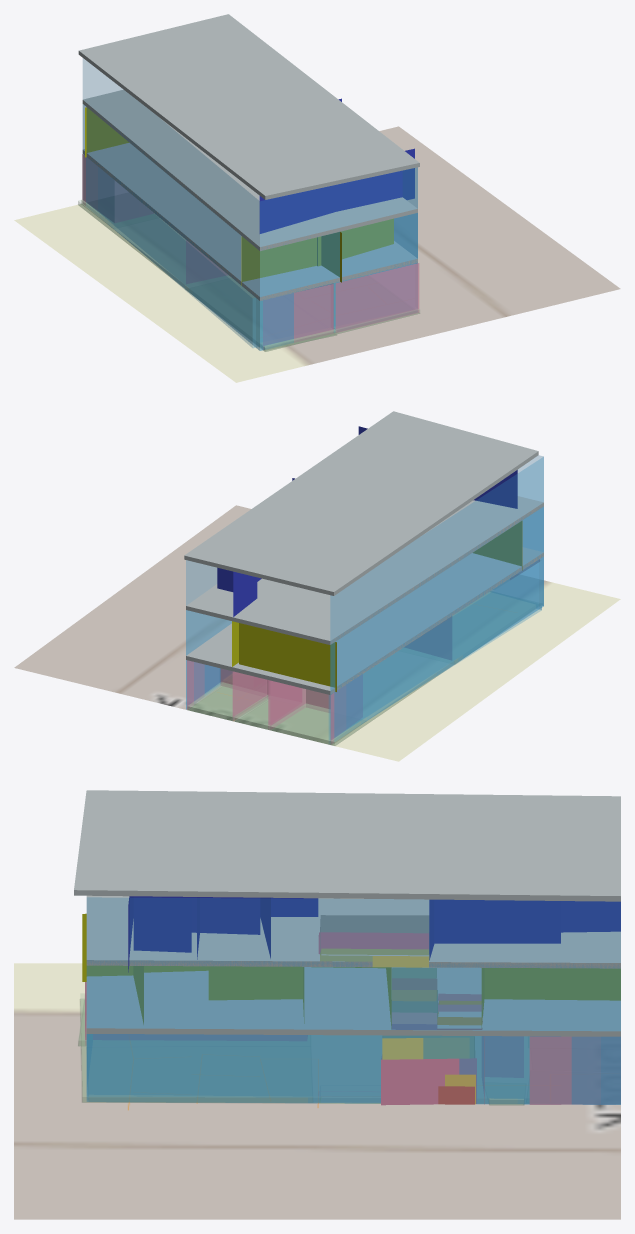
The model's file is mymodel.gltf.
3 views of the same model, one above another, from view 1: azimuth 30°, elevation 25°; view 2: azimuth 150°, elevation 25°; view 3: azimuth 270°, elevation 25° (orthographic). The views are drawn at different scales.
Parts seen in each view (by area): view 1: boundary, Outer_wall, Flat Plane, Inner_walls, Innerwall_floor2, Innerwalls_floor3, Building; view 2: boundary, Flat Plane, Outer_wall, Inner_walls, Innerwall_floor2, Building, Innerwalls_floor3; view 3: Flat Plane, Outer_wall, boundary, Innerwalls_floor3, Innerwall_floor2, Inner_walls, staircase3, Building, staircase4, stair3, threestair2, threestair33 (+4 smaller).
Part boxes in pixels (x1,y1,x2,y2): boundary: (78,14,419,300); Outer_wall: (82,58,417,350); Flat Plane: (14,126,620,382); Inner_walls: (82,154,419,349); Innerwall_floor2: (85,107,393,285); Innerwalls_floor3: (259,98,414,233); Building: (78,200,419,351); boundary: (184,411,543,694); Flat Plane: (14,505,620,761); Outer_wall: (186,455,543,741); Inner_walls: (187,559,539,743); Innerwall_floor2: (232,521,522,691); Building: (187,592,490,745); Innerwalls_floor3: (217,426,517,616); Flat Plane: (14,963,620,1219); Outer_wall: (86,897,620,1104); boundary: (74,790,620,1036); Innerwalls_floor3: (128,896,620,972); Innerwall_floor2: (82,913,620,1028); Inner_walls: (85,982,620,1104); staircase3: (381,1058,476,1105); Building: (78,993,524,1104); staircase4: (382,1036,474,1059); stair3: (320,915,429,959); threestair2: (318,932,428,954); threestair33: (320,948,429,967).
Size of the model in its own units: 24.19 by 9.24 by 24.19.
23 materials, 1 textured.
